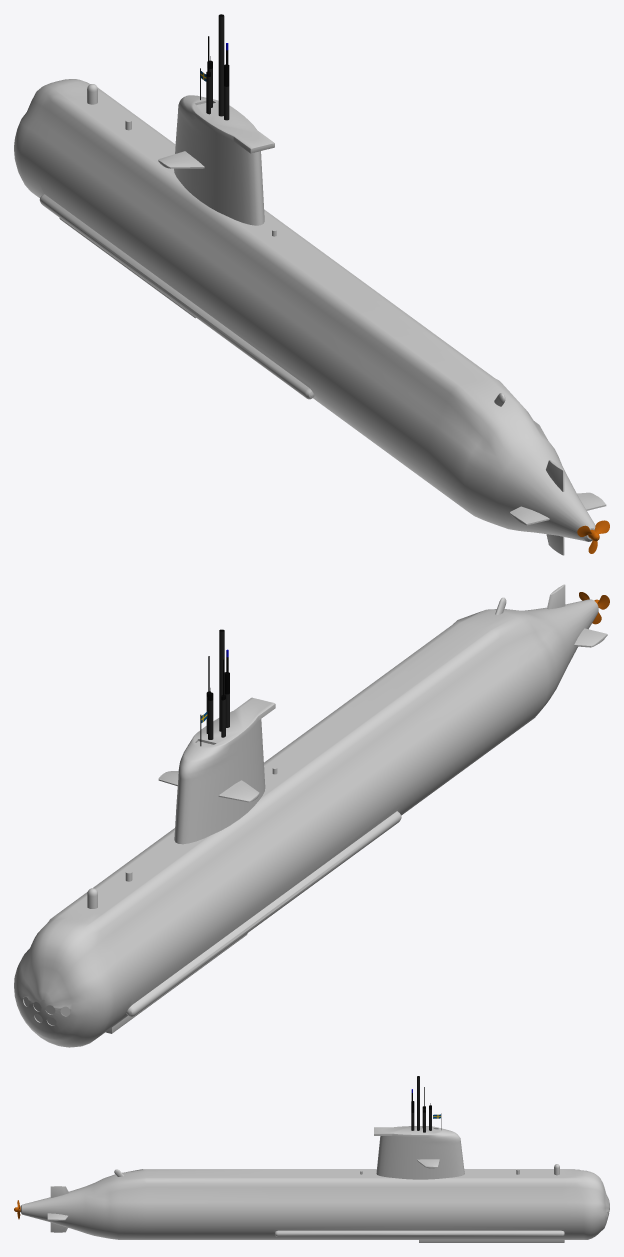
Rendered from submarino.obj.
3 renders of one model, top to bottom at view 1: azimuth 30°, elevation 25°; view 2: azimuth 150°, elevation 25°; view 3: azimuth 270°, elevation 25°, orthographic. The views are drawn at different scales.
Visible parts, largest first — view 1: Cylinder, Cylinder.001, Cylinder.004, Cube.001; view 2: Cylinder, Cylinder.001, Cylinder.004, Cube.002; view 3: Cylinder, Cylinder.001, Cylinder.004, Cube.
Part boxes in pixels (box(x1,y1,x2,y2)): Cylinder: box(14, 79, 599, 541); Cylinder.001: box(174, 95, 274, 225); Cylinder.004: box(206, 14, 229, 120); Cube.001: box(510, 492, 606, 525); Cylinder: box(14, 599, 598, 1047); Cylinder.001: box(174, 697, 275, 844); Cylinder.004: box(206, 629, 229, 739); Cube.002: box(158, 771, 259, 802); Cylinder: box(14, 1169, 609, 1242); Cylinder.001: box(374, 1126, 464, 1179); Cylinder.004: box(411, 1076, 431, 1132); Cube: box(50, 1186, 68, 1232).
Size of the model in its own units: 0.5908 by 1.77 by 5.94.
6 materials, 1 textured.
